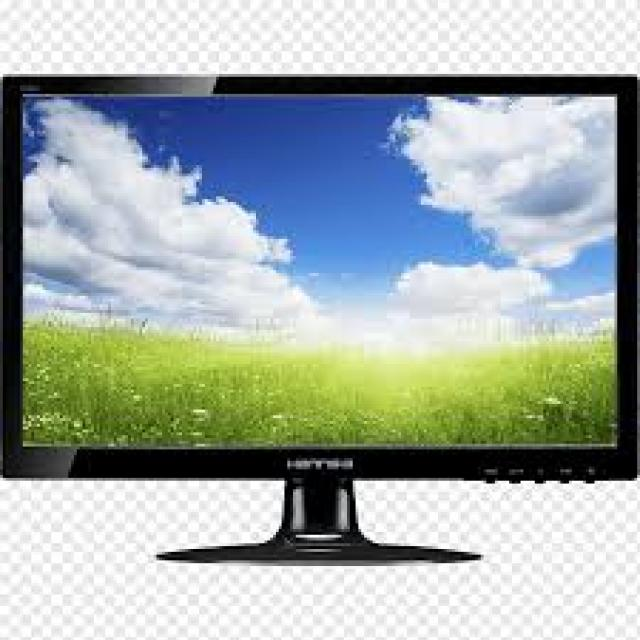monitor: (1, 67, 640, 568)
